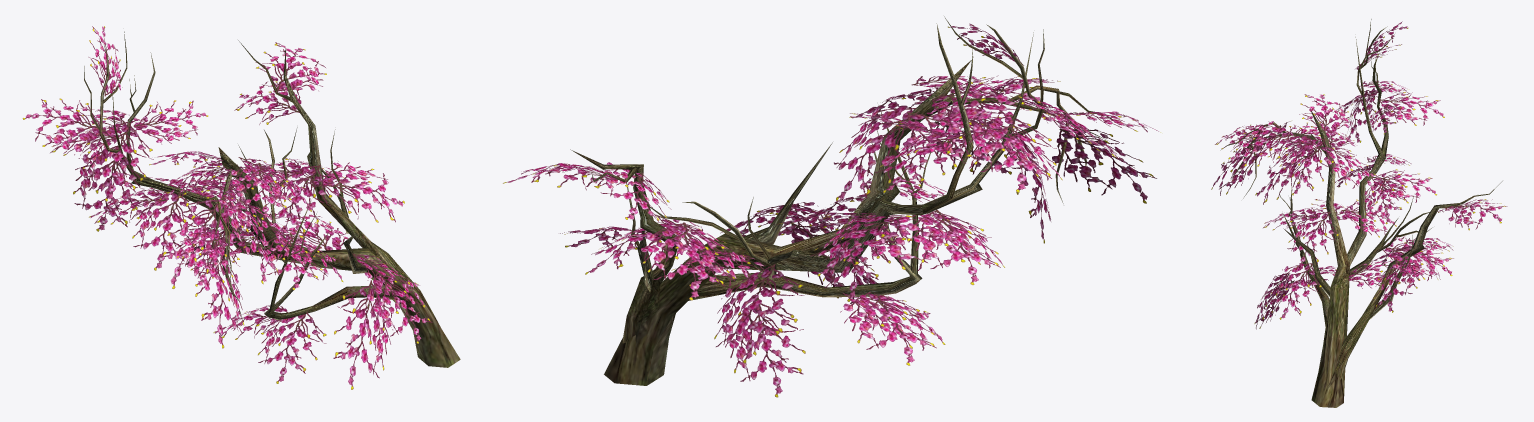
File: S_Tree_Red004.FBX
The picture shows the model from 3 angles, left to right: view 1: azimuth 30°, elevation 25°; view 2: azimuth 150°, elevation 25°; view 3: azimuth 270°, elevation 25°; orthographic projection. The views are drawn at different scales.
Visible parts, largest first — view 1: S_Tree_Yellow043; view 2: S_Tree_Yellow043; view 3: S_Tree_Yellow043.
Part boxes in pixels (bbox=[...]): S_Tree_Yellow043: bbox=[22, 26, 460, 389]; S_Tree_Yellow043: bbox=[503, 16, 1160, 397]; S_Tree_Yellow043: bbox=[1211, 19, 1507, 407].
Bounding box in the file's own units: 620 × 552 × 543.
